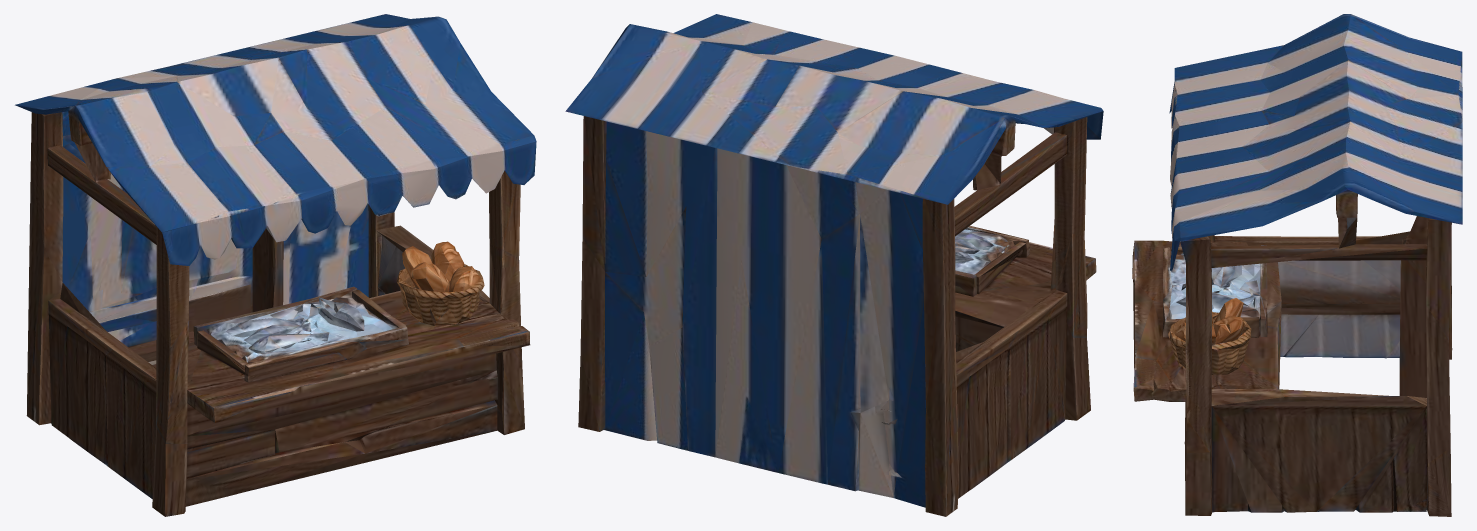
File: stall_fish_3d.glb
3 renders of one model, left to right at view 1: azimuth 30°, elevation 25°; view 2: azimuth 150°, elevation 25°; view 3: azimuth 270°, elevation 25°, orthographic. The views are drawn at different scales.
Parts seen in each view (by area): view 1: Mesh_0; view 2: Mesh_0; view 3: Mesh_0.
Boxes of the visible parts, x1,y1,x2,y2 form: Mesh_0: (15,14,536,516); Mesh_0: (565,14,1103,516); Mesh_0: (1132,14,1462,516).
Size of the model in its own units: 2.79 by 2.5 by 2.23.
Materials: 1 (1 with a texture image).
